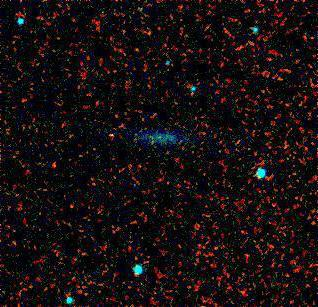star: (95, 119, 125, 149)
